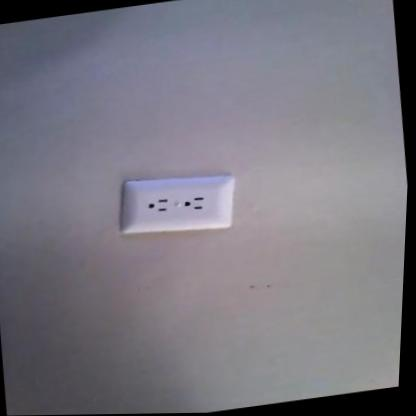OUTLET: (115, 166, 235, 241)
